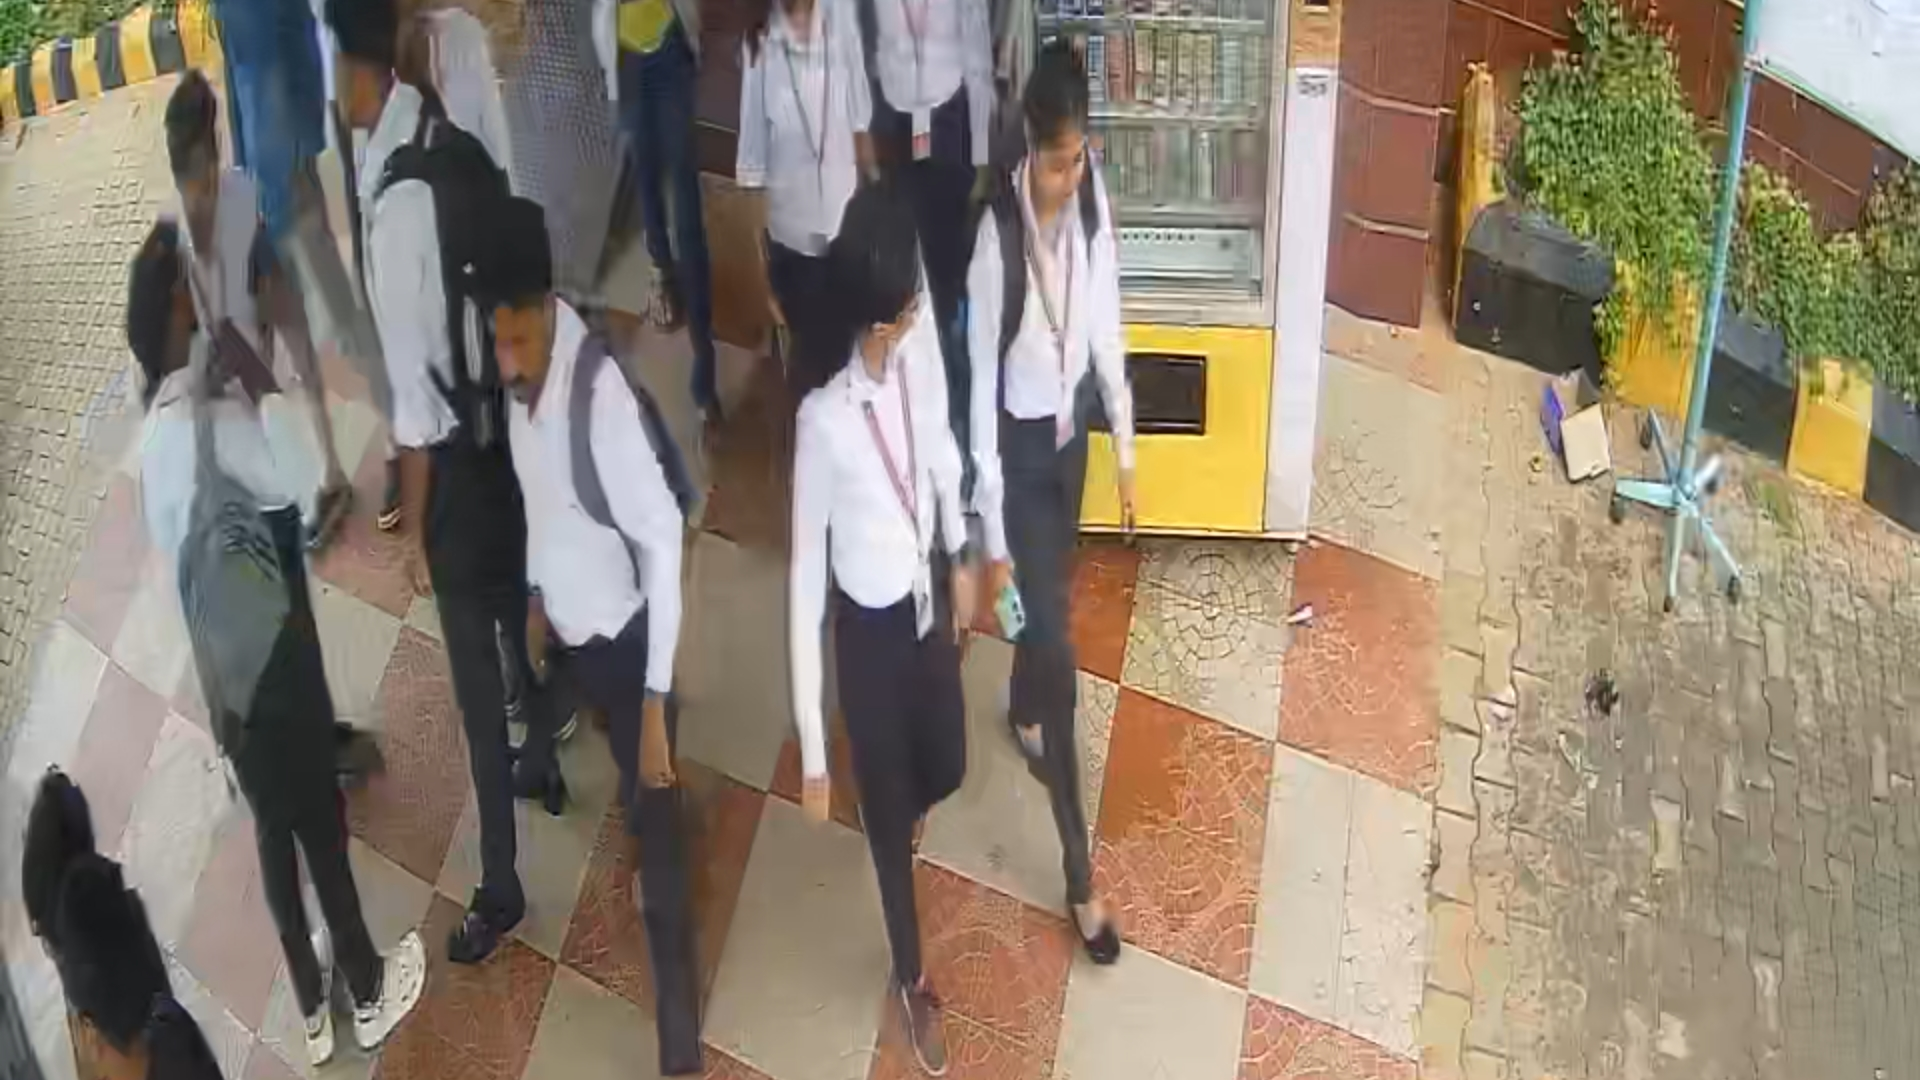intruder: (458, 204, 753, 1080)
not intruder: (774, 203, 1000, 1080), (968, 69, 1145, 963)
